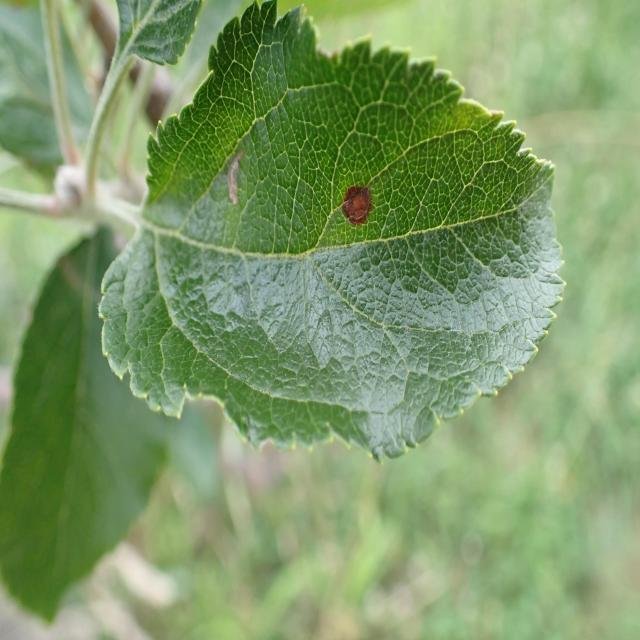Black Rot: (315, 160, 405, 248), (192, 140, 262, 220)
